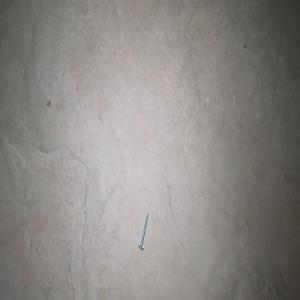Bolt: (138, 211, 148, 250)
